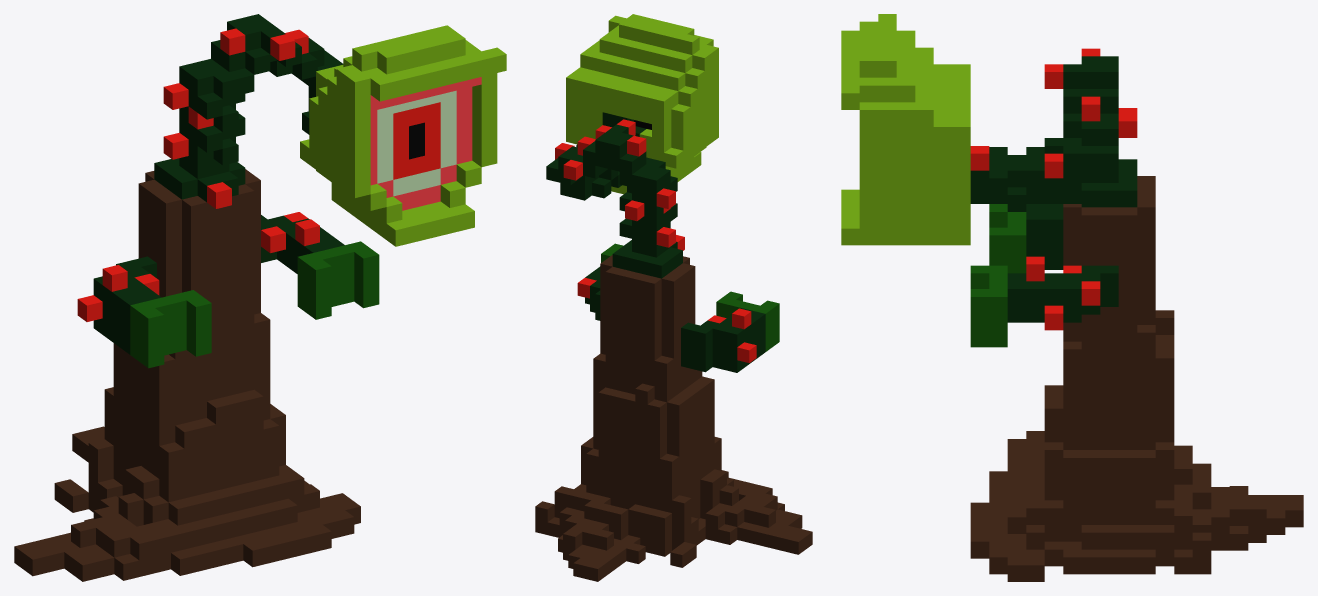
The model's file is Juan_Esteban_Quintana_Rodríguez_fase_4.obj.
3 renders of one model, left to right at view 1: azimuth 30°, elevation 25°; view 2: azimuth 150°, elevation 25°; view 3: azimuth 270°, elevation 25°, orthographic. The views are drawn at different scales.
Visible parts, largest first — view 1: Juan_Esteban_Quintana_Rodríguez_fase_4; view 2: Juan_Esteban_Quintana_Rodríguez_fase_4; view 3: Juan_Esteban_Quintana_Rodríguez_fase_4.
Boxes of the visible parts, x1,y1,x2,y2 form: Juan_Esteban_Quintana_Rodríguez_fase_4: [14, 14, 506, 581]; Juan_Esteban_Quintana_Rodríguez_fase_4: [535, 14, 812, 581]; Juan_Esteban_Quintana_Rodríguez_fase_4: [841, 14, 1303, 581].
Bounding box in the file's own units: 23 × 32 × 25.
Materials: 1 (1 with a texture image).
